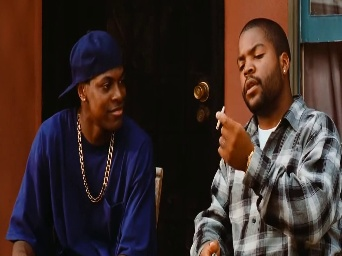smoke: (216, 104, 226, 129)
